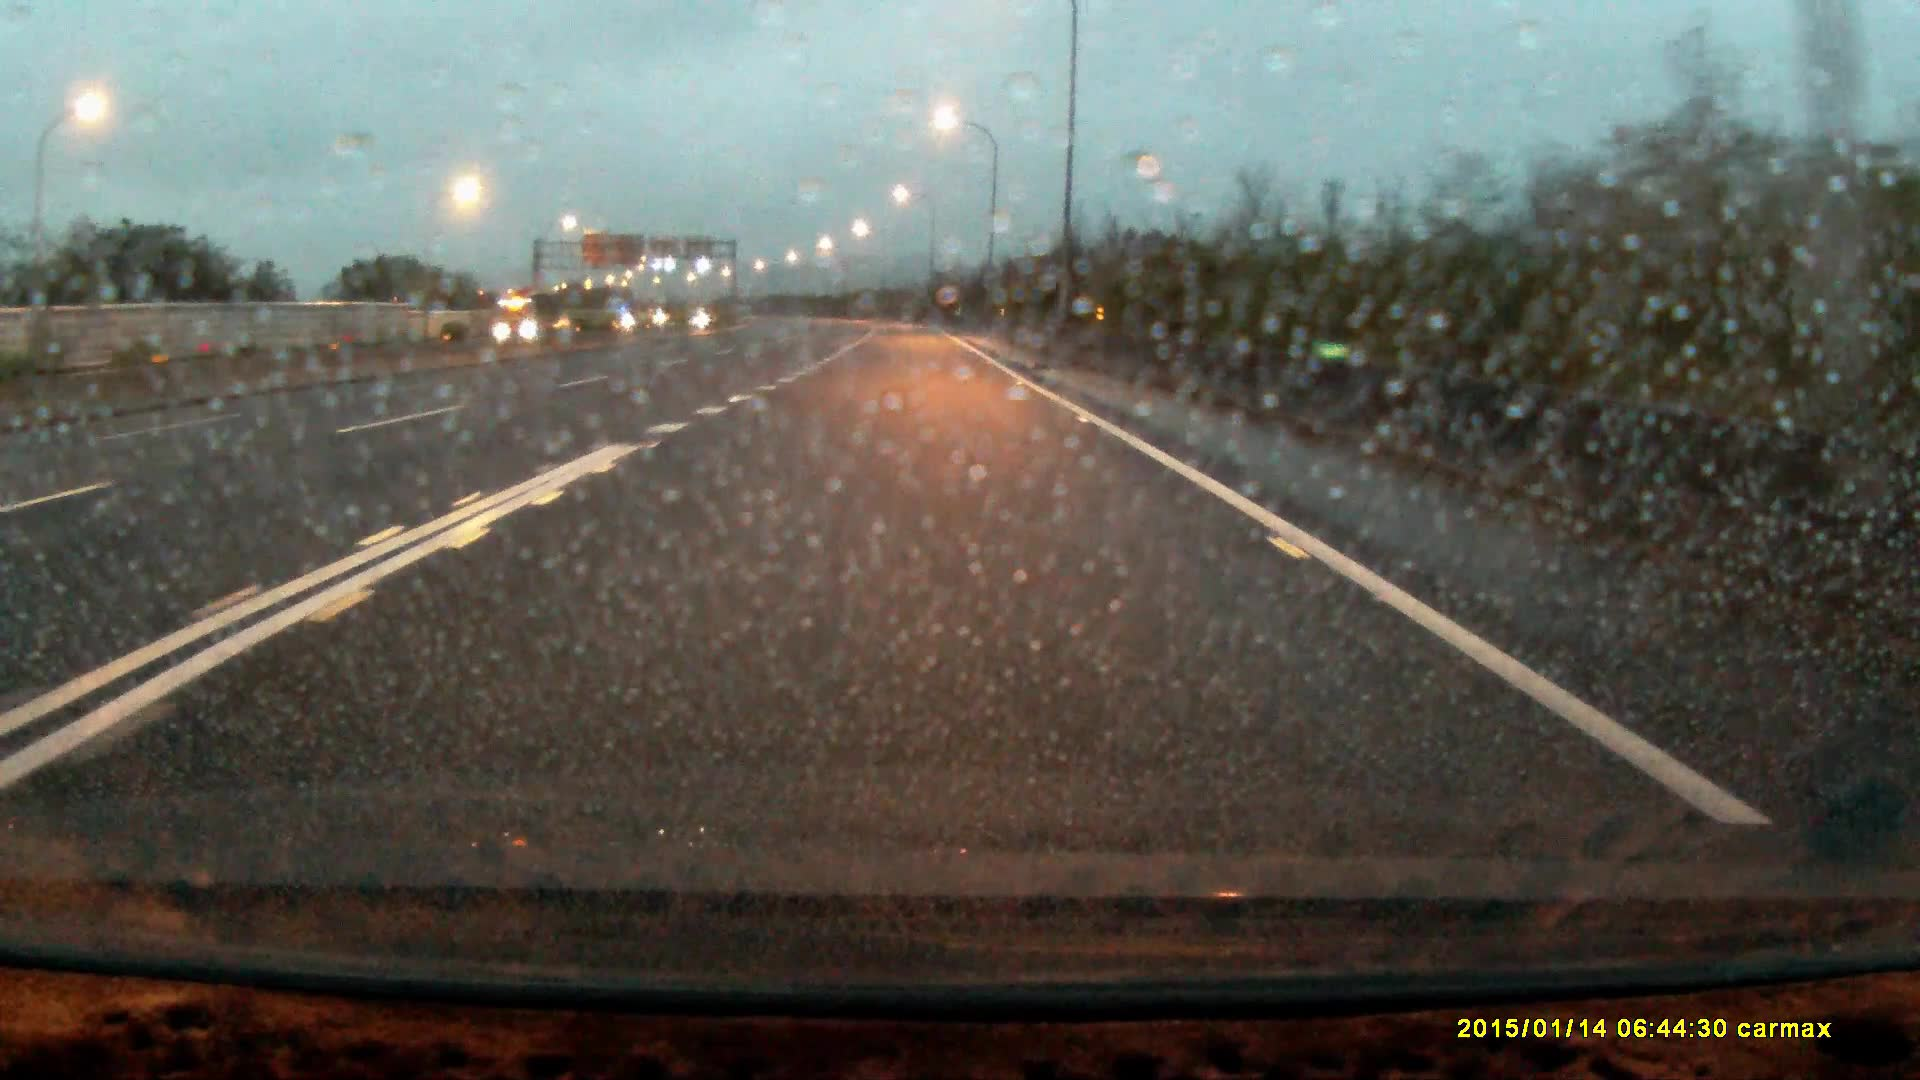vehicle: (496, 298, 564, 344)
